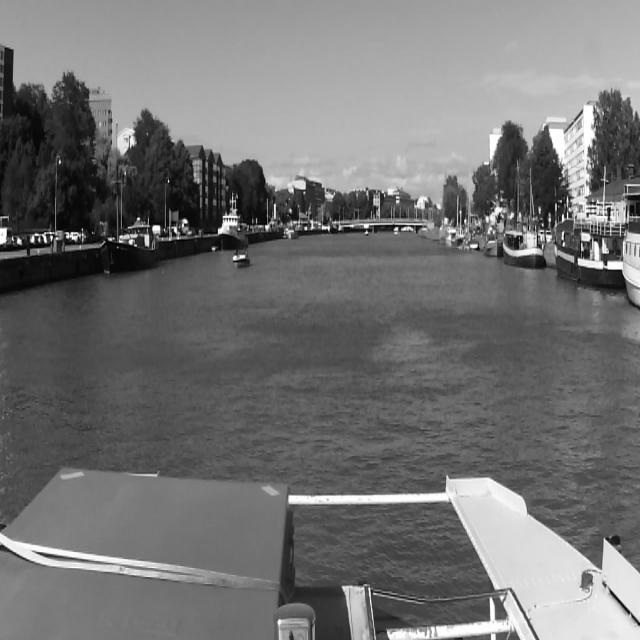ship: (548, 189, 626, 288), (503, 159, 545, 269), (100, 217, 160, 274), (217, 193, 249, 251), (484, 229, 502, 258), (232, 248, 250, 268), (286, 226, 298, 241)
